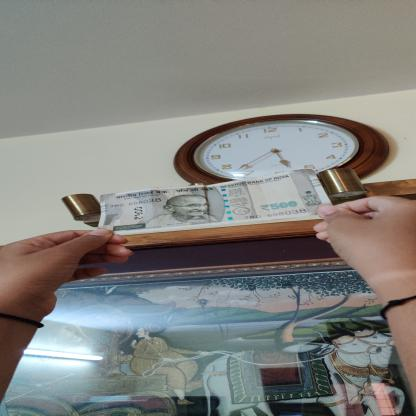New500Front: (96, 168, 352, 236)
